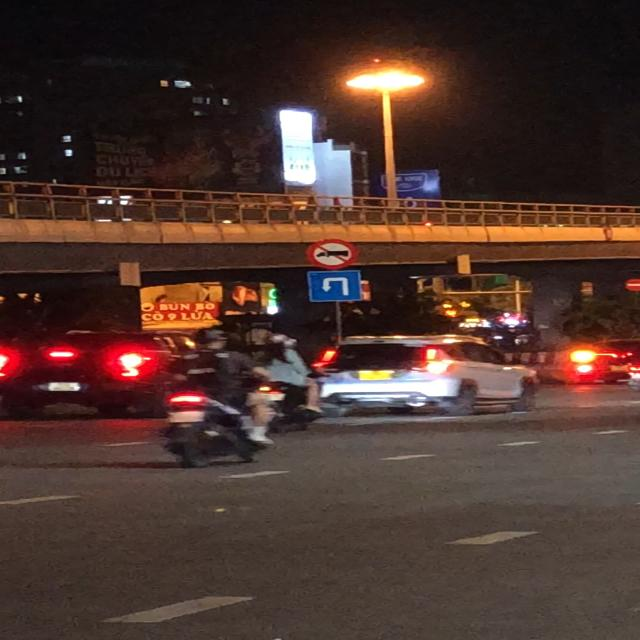Bien bao cam xe so-mi ro-mooc: (306, 237, 358, 271)
